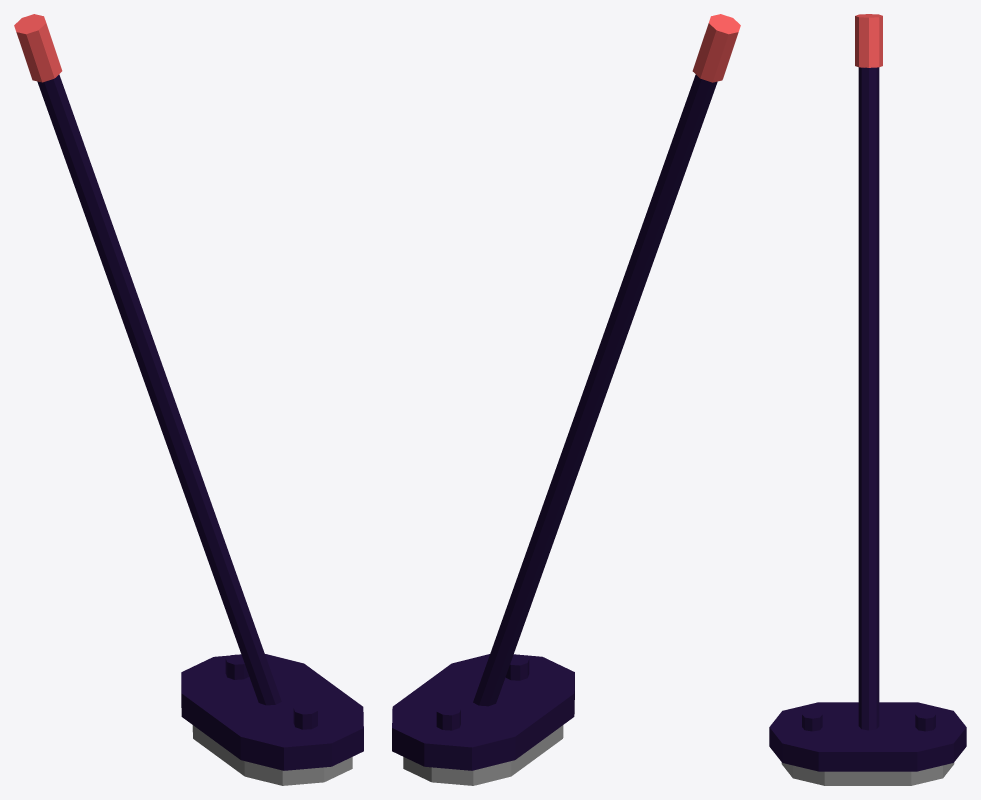
Rendered from pole.fbx.
The picture shows the model from 3 angles, left to right: view 1: azimuth 30°, elevation 25°; view 2: azimuth 150°, elevation 25°; view 3: azimuth 270°, elevation 25°; orthographic projection. The views are drawn at different scales.
Visible parts, largest first — view 1: Pole; view 2: Pole; view 3: Pole.
Boxes of the visible parts, x1,y1,x2,y2 form: Pole: (14,14,363,785); Pole: (392,14,740,785); Pole: (769,14,966,785).
Bounding box in the file's own units: 105 × 247 × 67.65.
